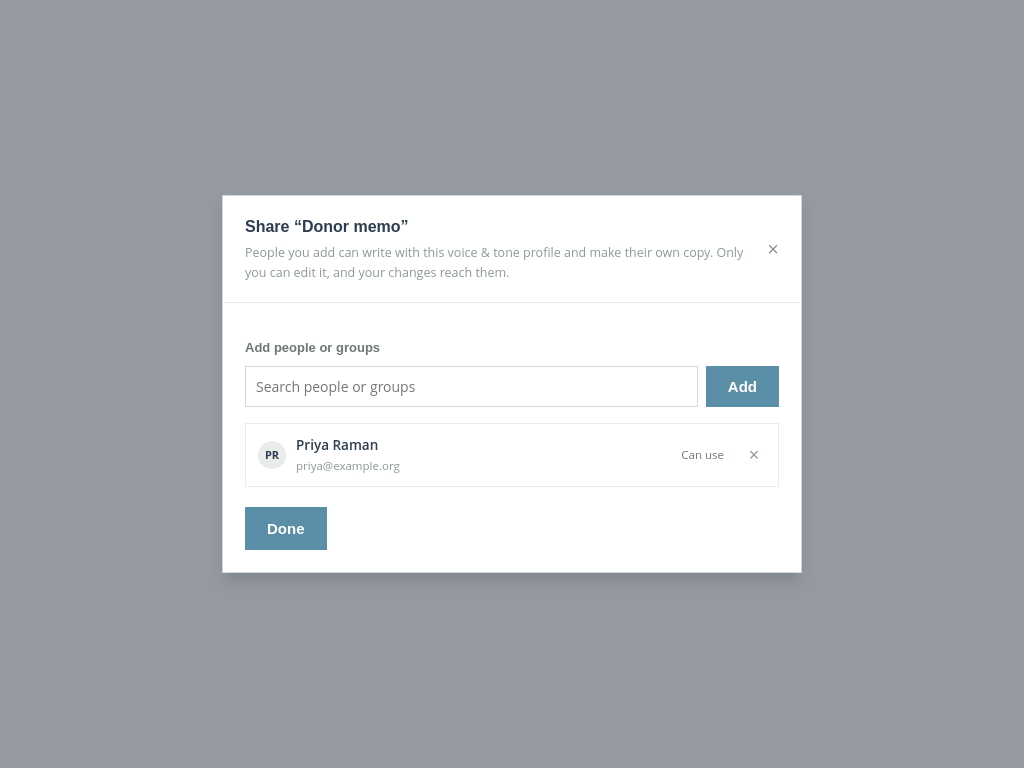
Test: sharing a template or voice › an error from the server is shown, not swallowed
The width and height of the screenshot is (1024, 768).
Expected: the text "Priya Raman" is shown, [296, 436, 378, 454]
In the dropdown with placeholder "Search people or groups": (471, 387) [245, 366, 698, 407], type "x@y.z"
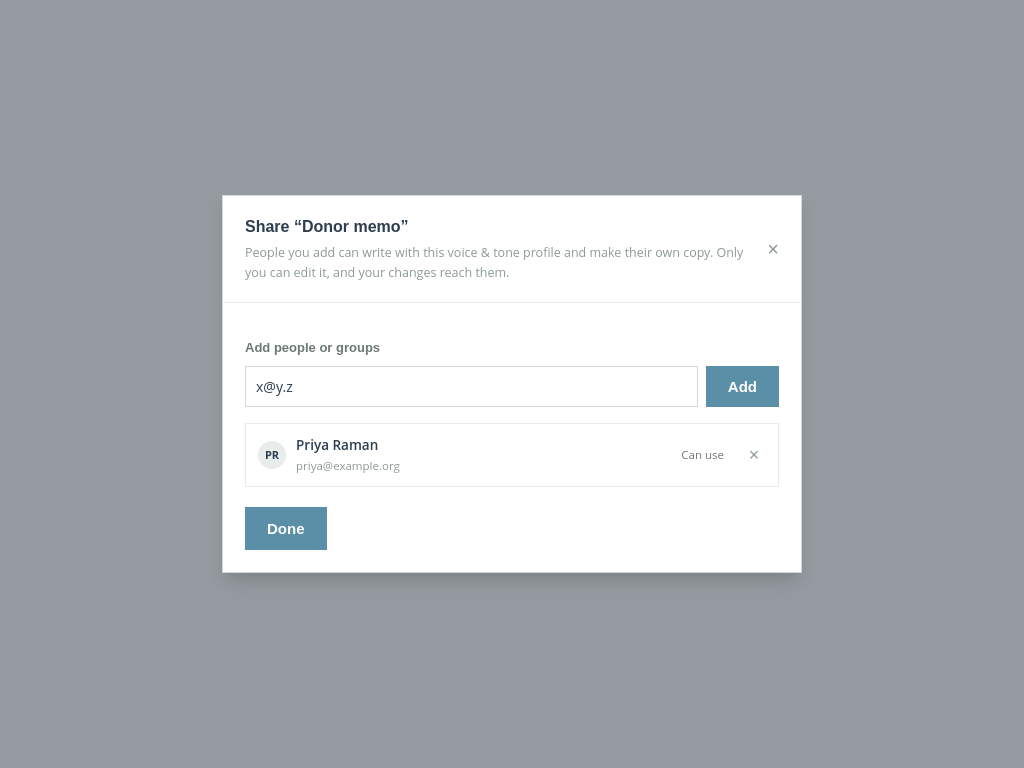
Click the button "Add": (742, 387) [706, 366, 779, 407]
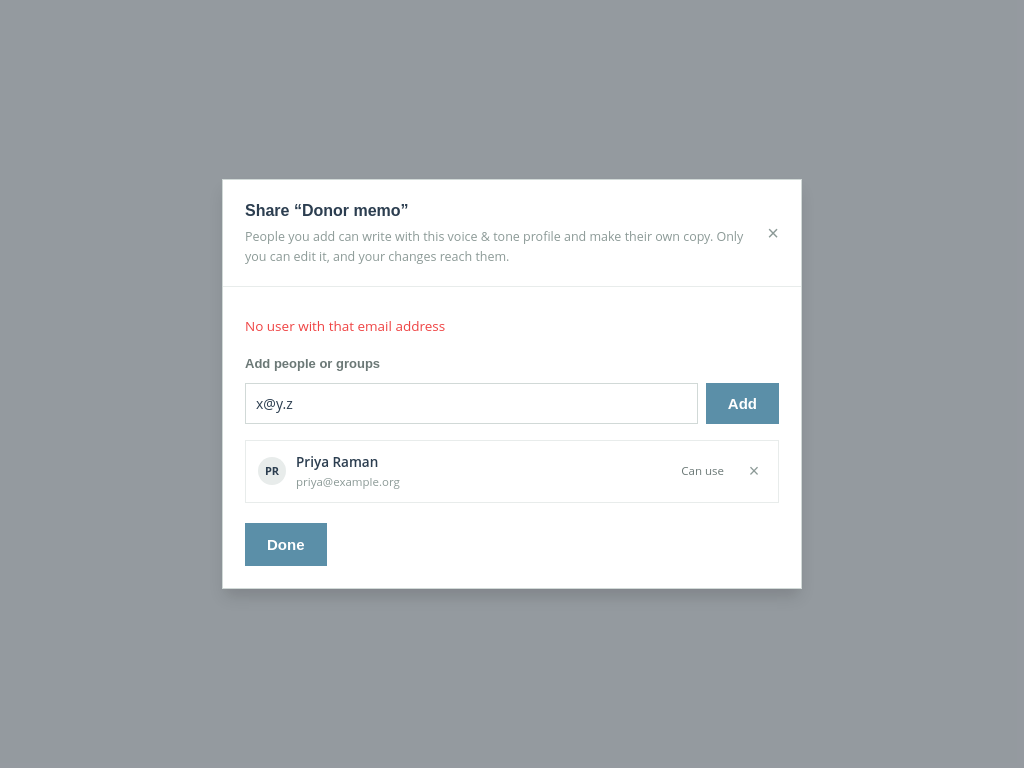
Expected: the text "No user with that email address" is shown, [245, 317, 445, 335]
